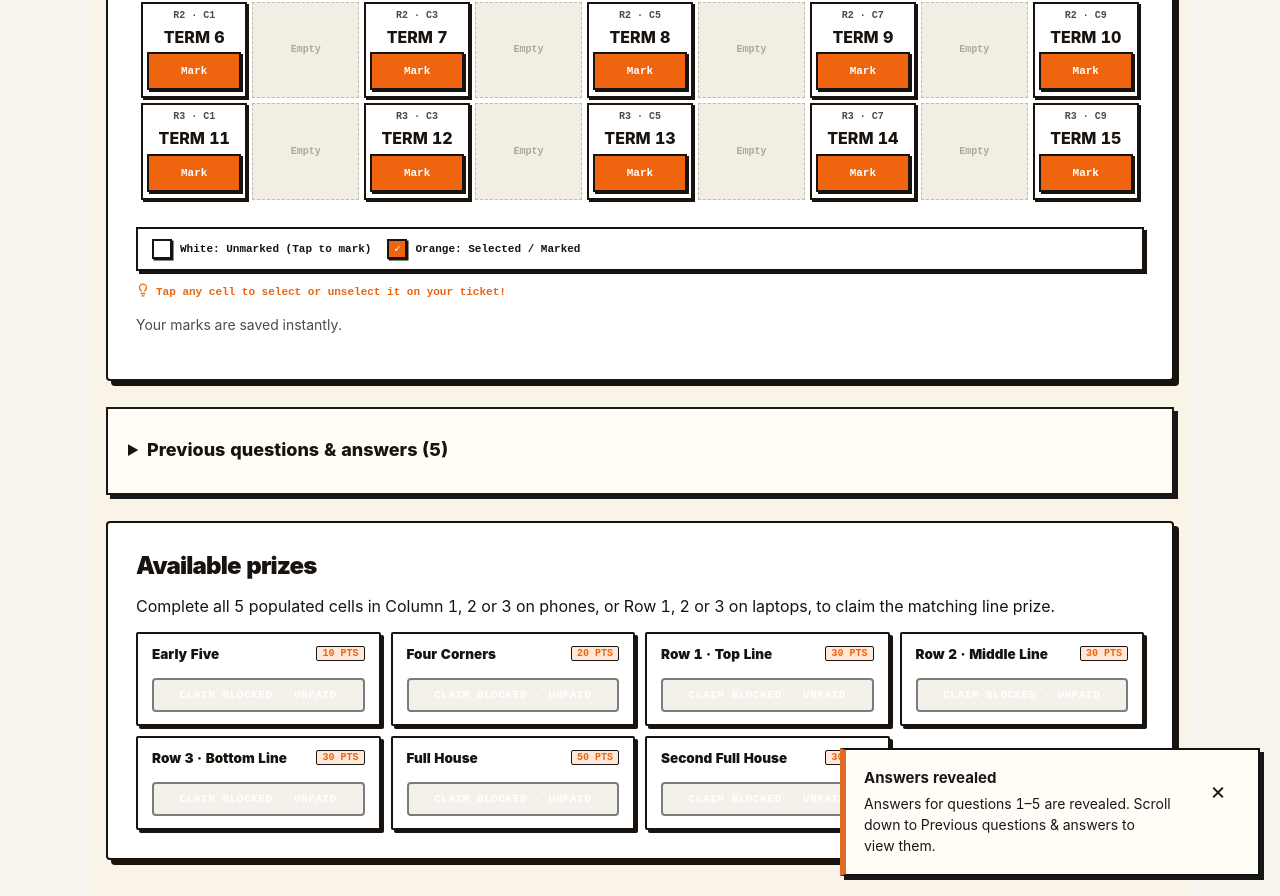
Test: keeps all five revealed answers in history and announces the revealed question range
(page scrolled)
Expected: the message shows "Answers for questions 1–5 are revealed", [864, 795, 1171, 854]
Expected: the message shows "Scroll down to Previous questions & answers", [864, 795, 1171, 854]
Click the heading "Previous questions & answers (5)" at [298, 449], box [147, 438, 448, 460]
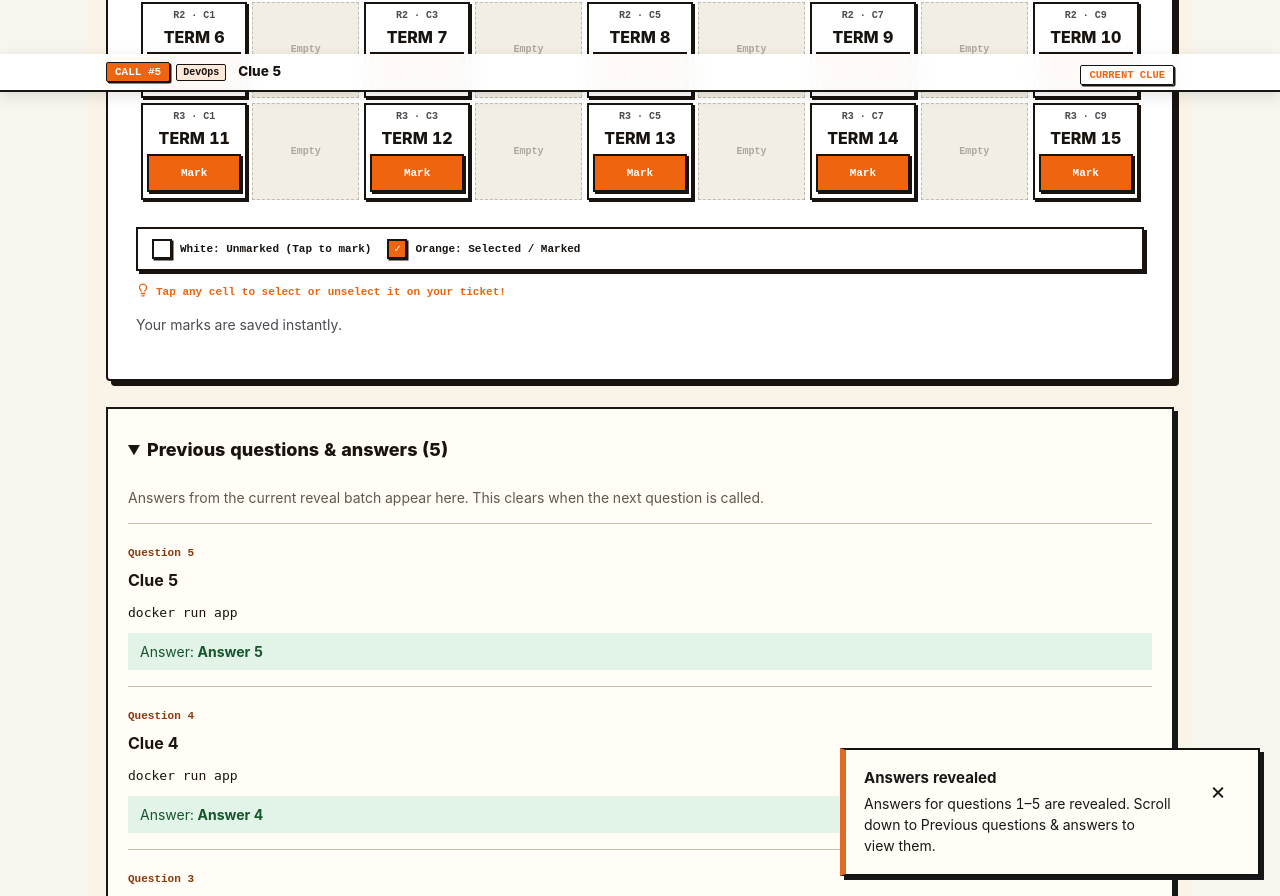
Expected: the text "Answer 5" is shown, [198, 643, 263, 660]
